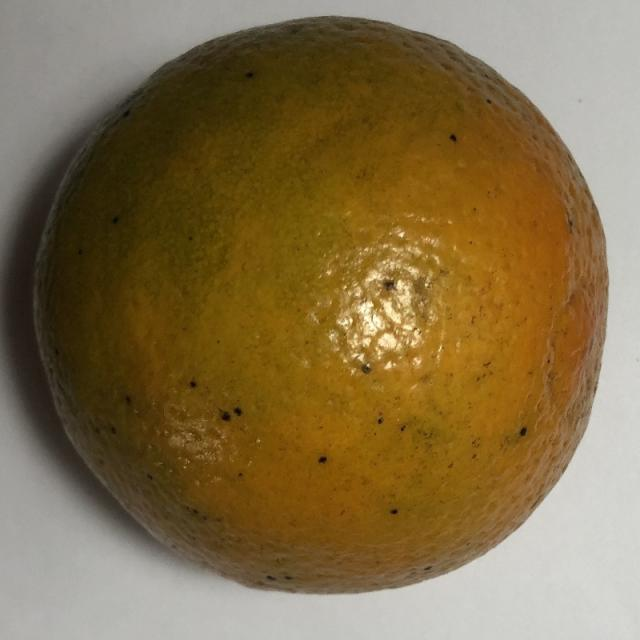blackspot: (24, 6, 618, 606)
